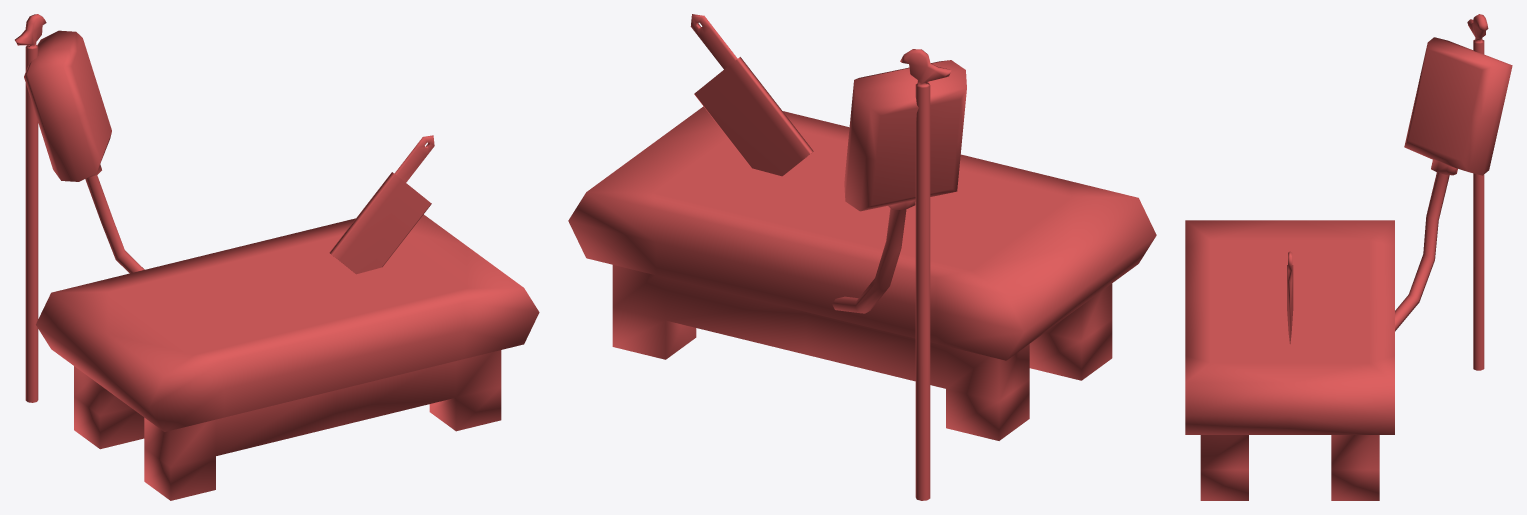
File: BloodTable.fbx
The picture shows the model from 3 angles, left to right: view 1: azimuth 30°, elevation 25°; view 2: azimuth 150°, elevation 25°; view 3: azimuth 270°, elevation 25°; orthographic projection. The views are drawn at different scales.
Parts seen in each view (by area): view 1: Table, Blood_Bag, Knife, Pole; view 2: Table, Blood_Bag, Knife, Pole; view 3: Table, Blood_Bag, Pole, Knife.
Part boxes in pixels (x1,y1,x2,y2): Table: (36,214,539,500); Blood_Bag: (24,30,144,273); Knife: (329,135,434,274); Pole: (15,14,46,402); Table: (568,106,1156,440); Blood_Bag: (832,60,966,313); Knife: (690,14,813,176); Pole: (900,49,951,500); Table: (1185,220,1394,500); Blood_Bag: (1395,37,1512,331); Pole: (1467,14,1488,370); Knife: (1287,251,1293,344).
Size of the model in its own units: 19.16 by 17.99 by 15.04.
